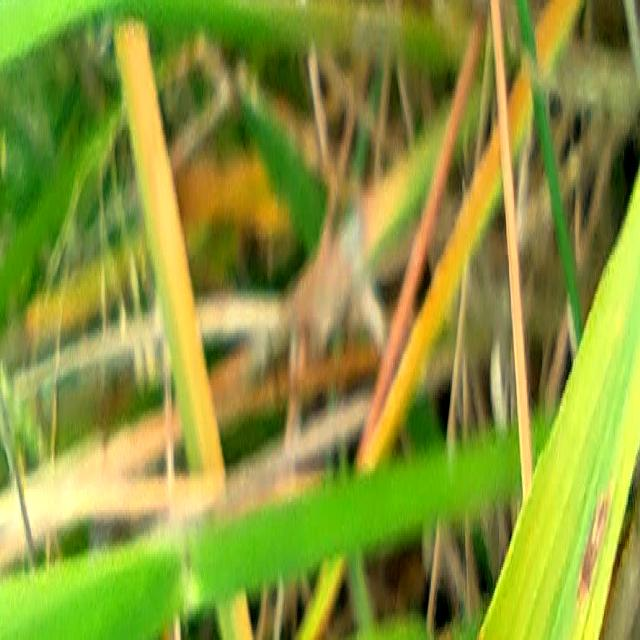NBS: (576, 482, 612, 611)
